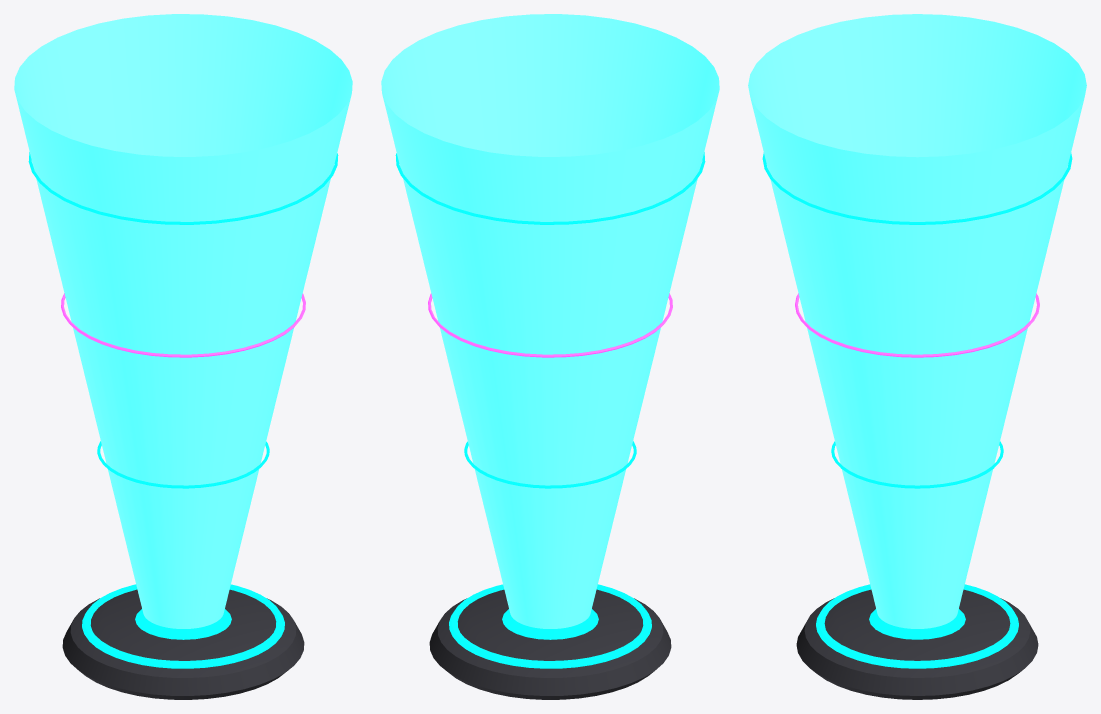
Rendered from KIT_Holo_Projetor.glb.
The picture shows the model from 3 angles, left to right: view 1: azimuth 30°, elevation 25°; view 2: azimuth 150°, elevation 25°; view 3: azimuth 270°, elevation 25°; orthographic projection.
Visible parts, largest first — view 1: KIT_Holo_Projetor; view 2: KIT_Holo_Projetor; view 3: KIT_Holo_Projetor.
Boxes of the visible parts, box(x1,y1,x2,y2) form: KIT_Holo_Projetor: box(14, 14, 352, 699); KIT_Holo_Projetor: box(381, 14, 719, 699); KIT_Holo_Projetor: box(748, 14, 1086, 699).
Size of the model in its own units: 0.84 by 1.55 by 0.84.
